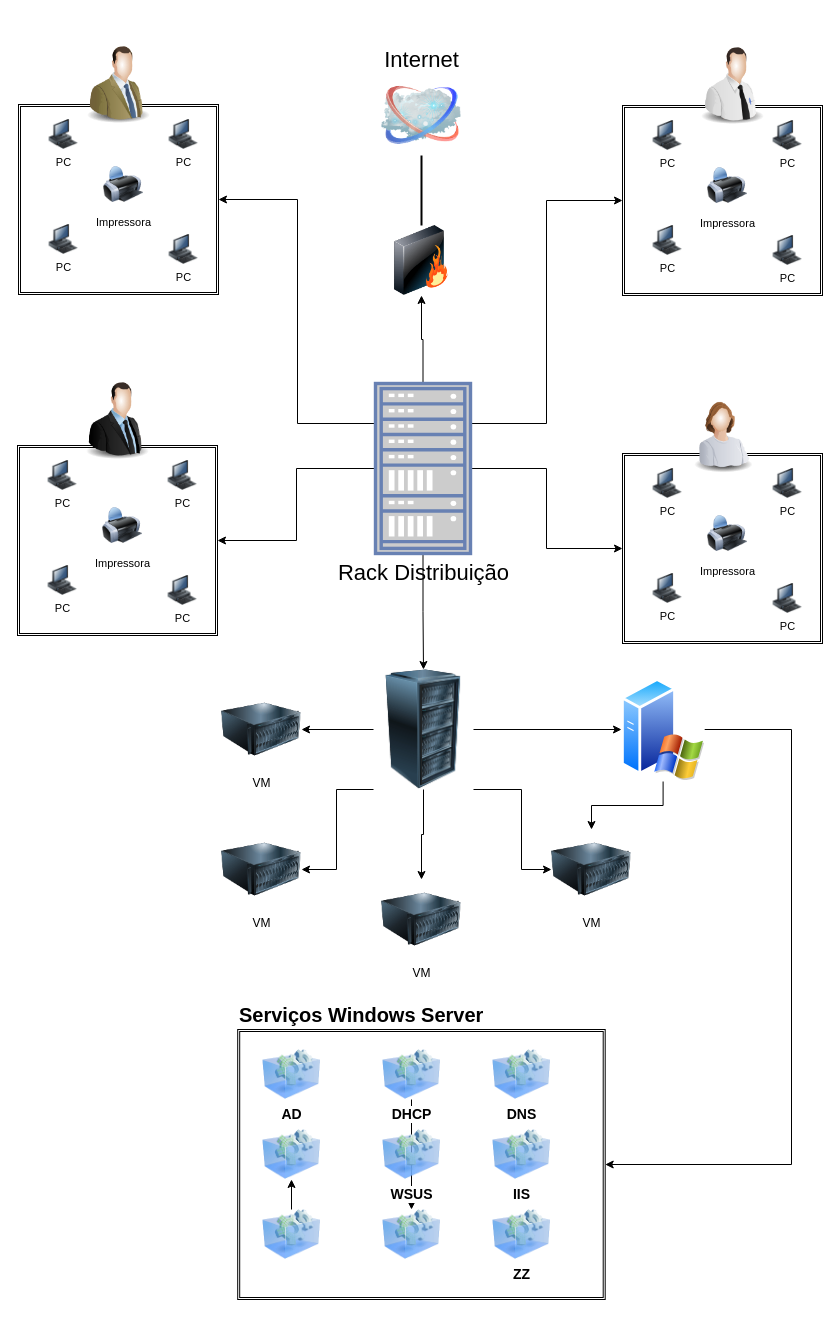
This 840x1317 diagram has some shape labels left out. The centre of each missing label's shape, as x and y in pixels:
Diretores: (118,84)
Financeiro: (732,85)
Firewall: (421,260)
Patrimônio: (117,420)
RH: (722,433)
SERV. ARQ.: (291,1154)
Server_DC_01: (662,729)
Servidor de Virtualização: (423,729)
XX: (291,1234)
YY: (411,1234)
